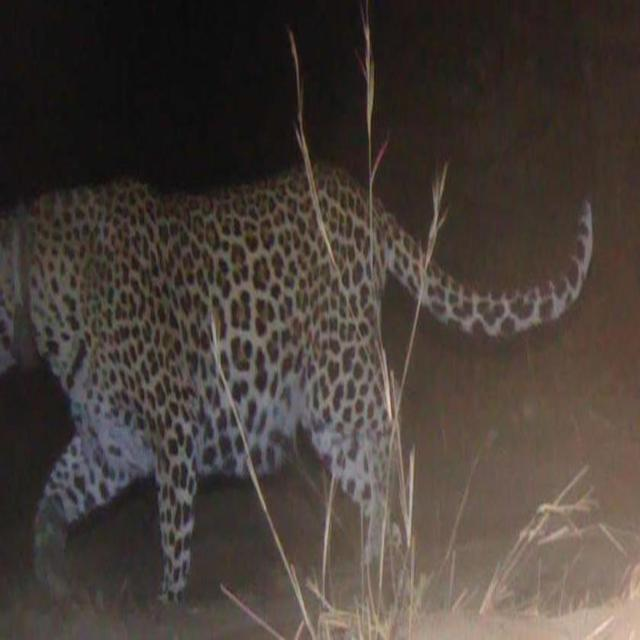Leopard: (0, 143, 609, 633)
